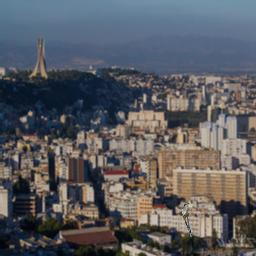Cuckoo: (182, 203, 192, 238)
